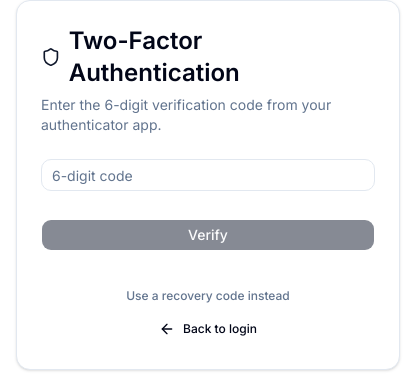
Scenario: LoginForm Component › 2FA Challenge Stage › toggles between TOTP code input and recovery code input
Click the button "Use a recovery code instead". click: (208, 296)
box: [125,287,291,305]
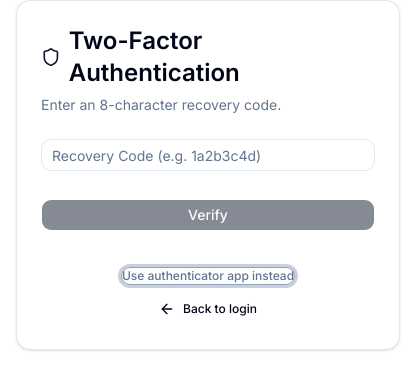
expect the text "Enter an 8-character recovery code." is shown: met, box [41,96,281,113]
expect the field with placeholder "Recovery Code (e.g. 1a2b3c4d)" is shown: met, box [41,139,375,171]
expect the button "Use authenticator app instead" is shown: met
Click the button "Use authenticator app instead". click: (208, 276)
box: [121,267,295,285]
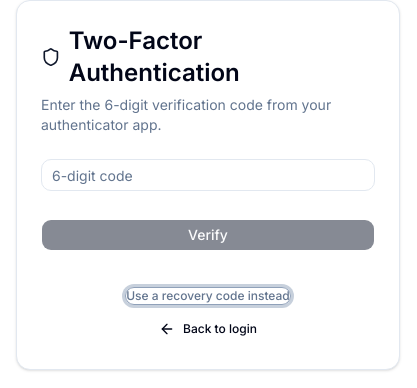
expect the field with placeholder "6-digit code" is shown: met, box [41,159,375,191]
